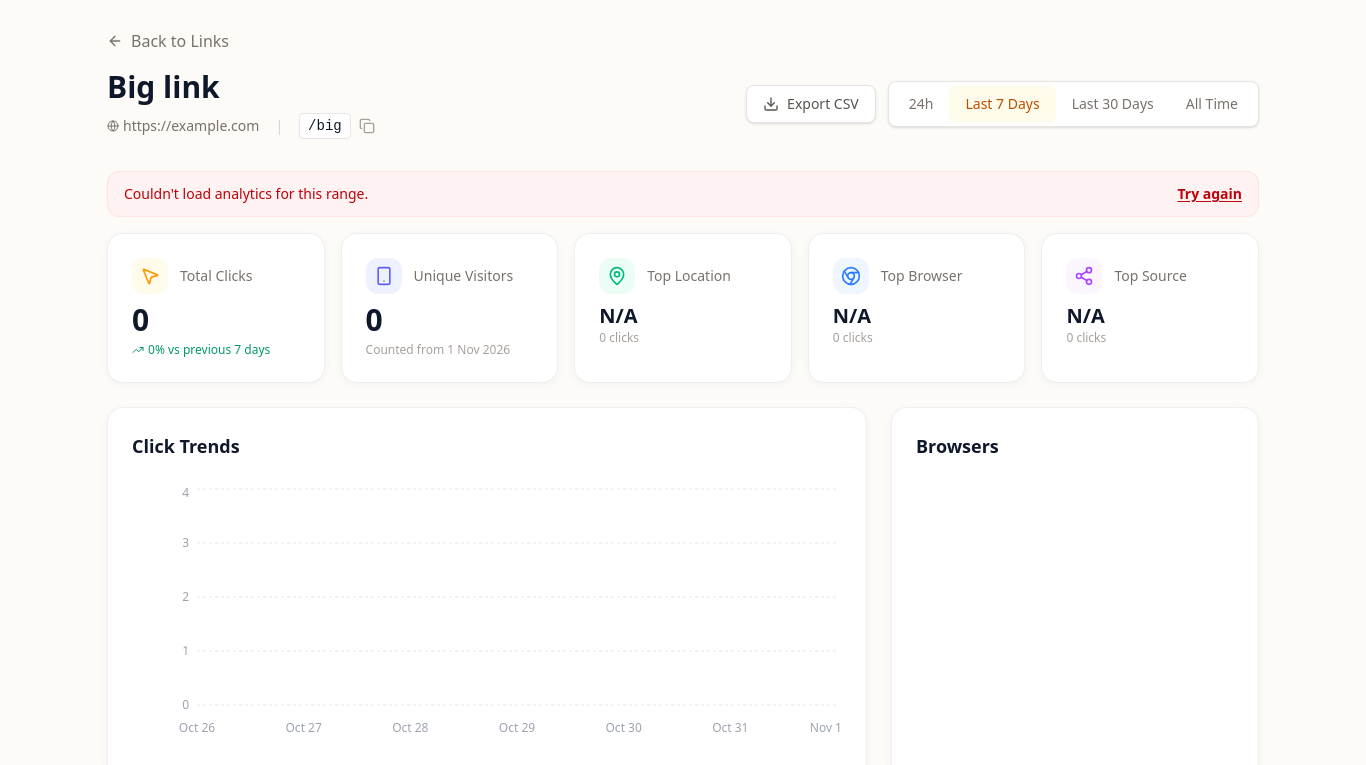
Test: link analytics page › says when analytics fail and retries
The width and height of the screenshot is (1366, 765).
Expected: the text "Couldn't load analytics for this range." is shown, [124,184,368,204]
Step 1. Click the button "Try again" → (1210, 194), box [1177,184,1242,204]
(page scrolled)
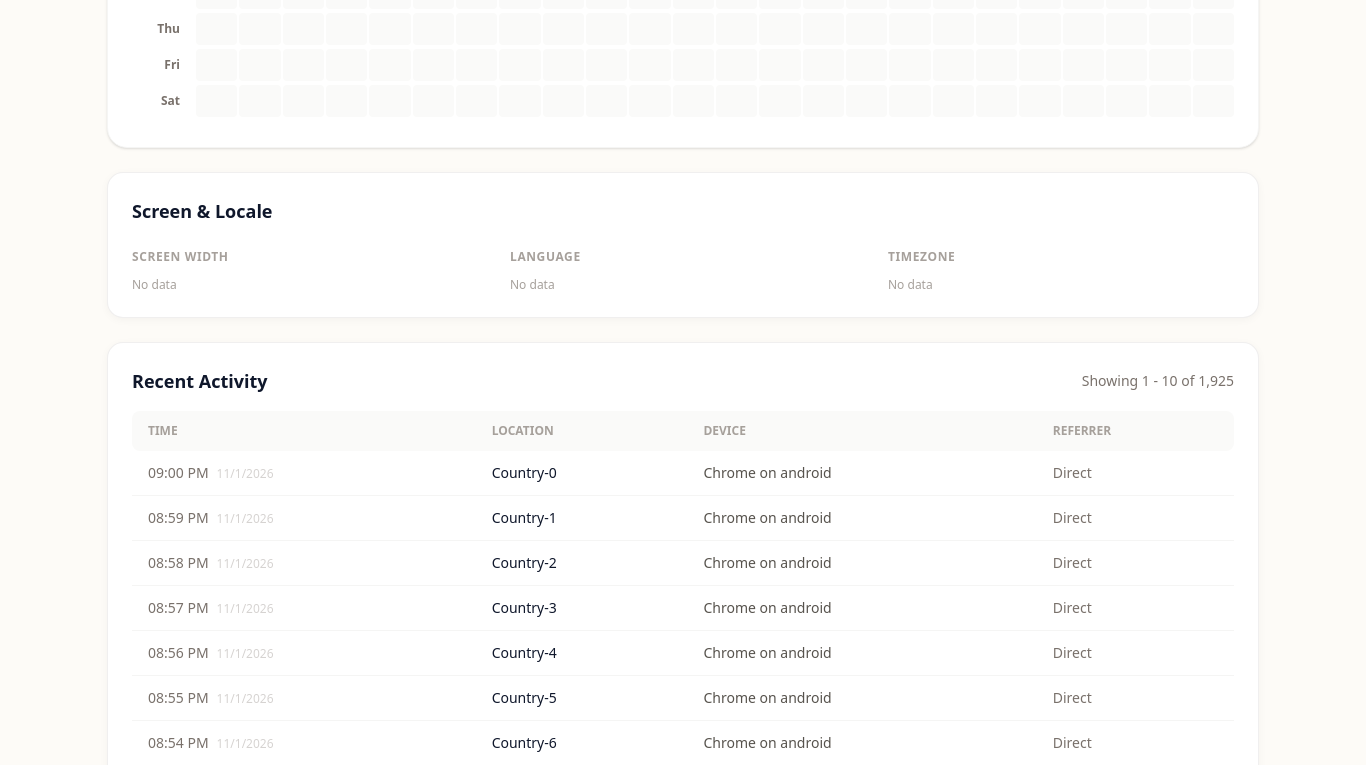
Expected: the text "Showing 1 - 10 of 1,925" is shown, [1082,371,1234,391]
